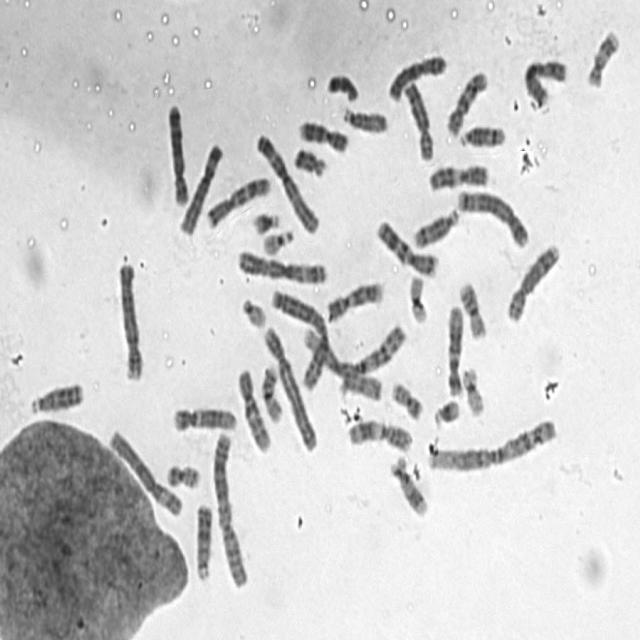A1: (423, 412, 559, 476), (301, 325, 385, 403)
A2: (267, 282, 331, 394), (209, 425, 251, 590)
A3: (252, 127, 321, 236), (234, 243, 330, 286)
B4: (260, 319, 319, 453), (114, 255, 146, 384)
B5: (454, 183, 531, 249), (163, 97, 191, 208)
C10: (234, 363, 273, 455), (443, 65, 490, 139)
C11: (344, 412, 414, 454), (426, 158, 491, 192)
C12: (169, 400, 240, 433), (444, 300, 466, 399)
C6: (104, 423, 186, 520), (176, 136, 226, 238)
C7: (373, 214, 439, 278), (203, 170, 273, 230)
C8: (503, 236, 563, 324), (401, 76, 436, 162)
C9: (323, 276, 385, 324), (295, 115, 351, 155)
D13: (26, 375, 86, 417), (192, 497, 215, 582)
D14: (410, 202, 462, 250), (456, 119, 508, 150)
D15: (340, 102, 390, 136), (338, 368, 385, 401)
E16: (456, 276, 489, 341), (258, 360, 284, 424)
E17: (388, 452, 430, 518), (584, 24, 621, 90)
E18: (290, 142, 329, 179), (323, 68, 361, 104)
F19: (458, 361, 487, 418), (405, 269, 430, 326)
F20: (388, 375, 425, 422), (162, 457, 203, 490)
G21: (430, 393, 462, 429), (249, 206, 282, 236)
G22: (259, 224, 296, 256), (238, 291, 268, 330)
X: (385, 49, 449, 104), (520, 52, 570, 106)
